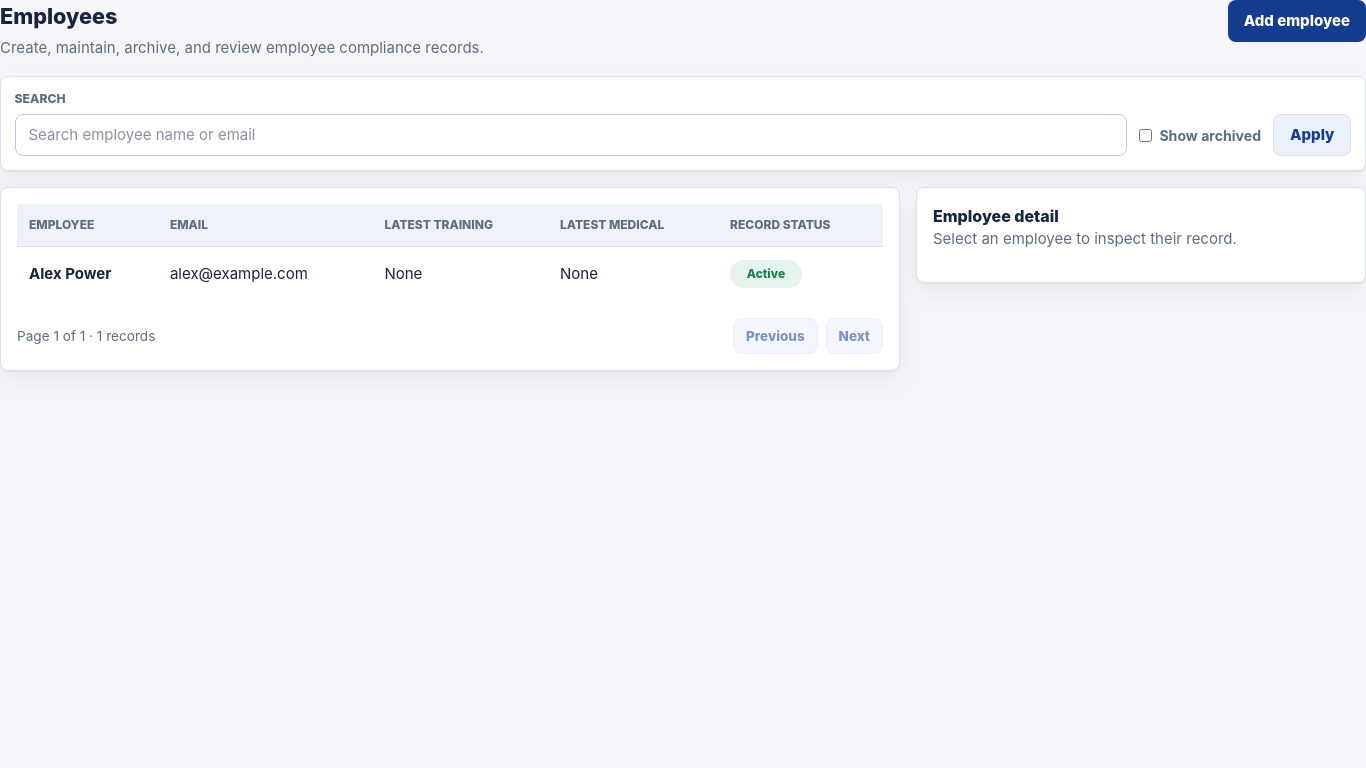
Test: ManageEmployees › opens completion comments from employee history without showing them inline
What coordinates should you click on to do the following:
click the row "Alex Power alex@example.com None None Active"
I would click on:
 (70, 274)
Its box is [17,246,883,302].
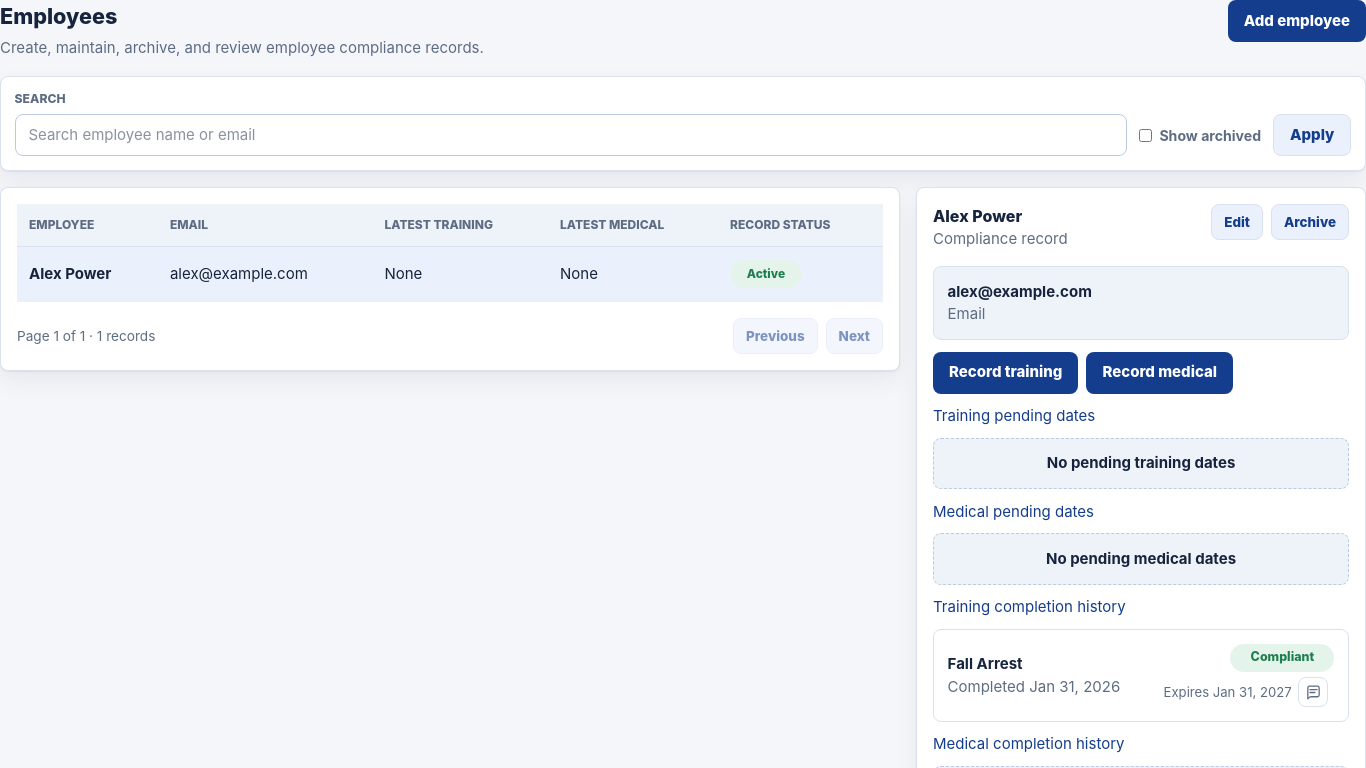
Check: the element with class "requirement-row" does not show "Certificate verified by site supervisor."
Check: the element with class "requirement-row" shows "Fall Arrest", box [948,654,1022,673]
What coordinates should you click on to do the following:
click the button named "View completion comment for Fall Arrest"
I would click on:
 (1313, 692)
Its box is [1298,677,1328,707].
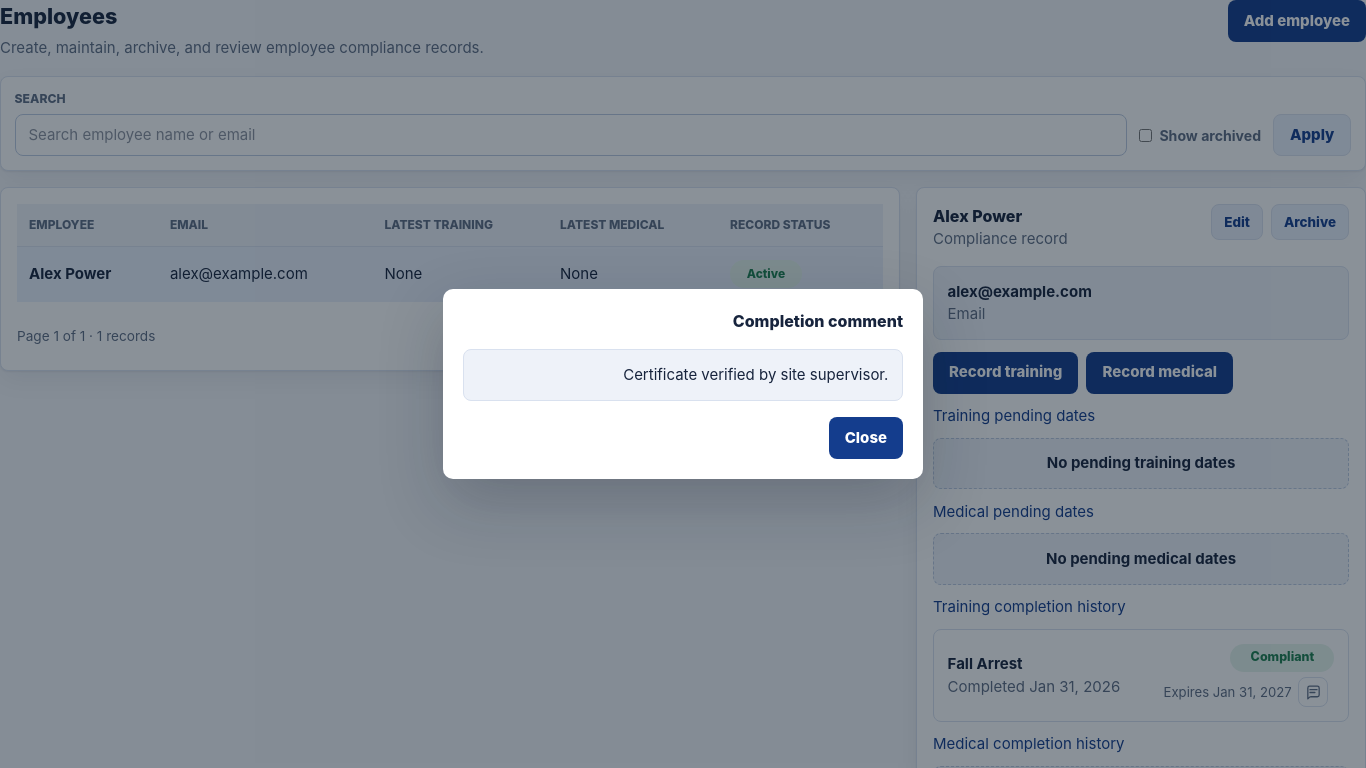
Check: the dialog with class "comment-dialog" shows "Certificate verified by site supervisor.", box [623,365,888,384]
